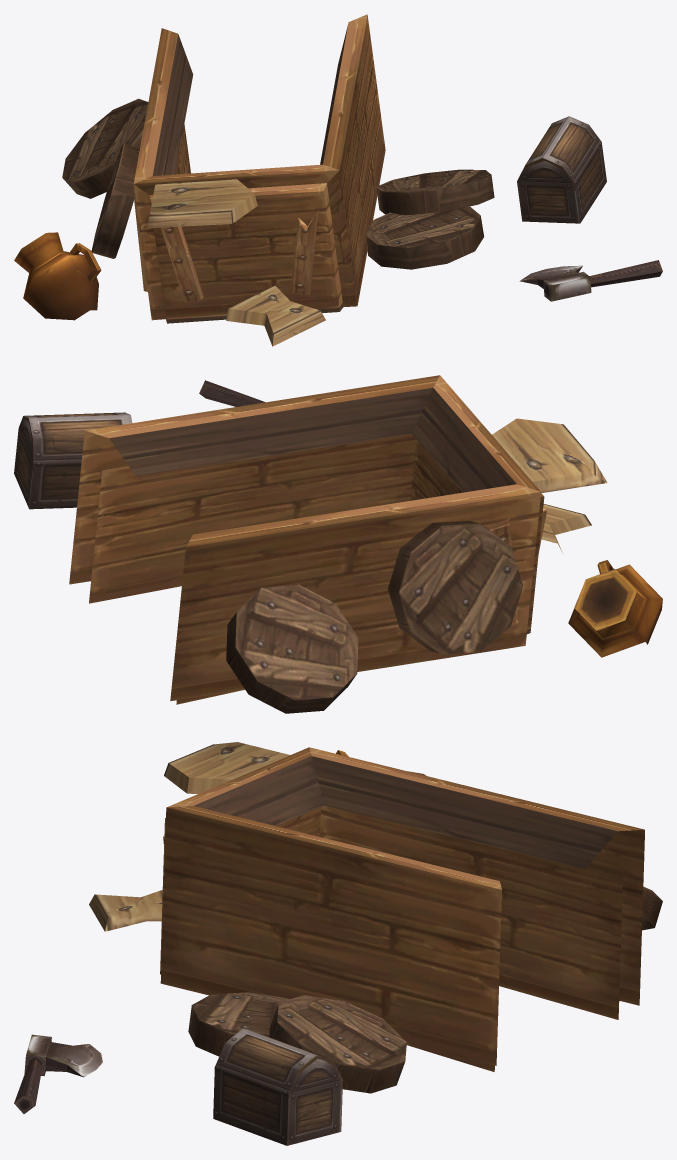
File: xiaowujian02.FBX
3 renders of one model, top to bottom at view 1: azimuth 30°, elevation 25°; view 2: azimuth 150°, elevation 25°; view 3: azimuth 270°, elevation 25°, orthographic. The views are drawn at different scales.
Parts seen in each view (by area): view 1: Object023; view 2: Object023; view 3: Object023.
Part boxes in pixels (x1,y1,x2,y2): Object023: (14,14,662,346); Object023: (14,375,662,713); Object023: (14,742,662,1145).
Bounding box in the file's own units: 522 × 153 × 430.
